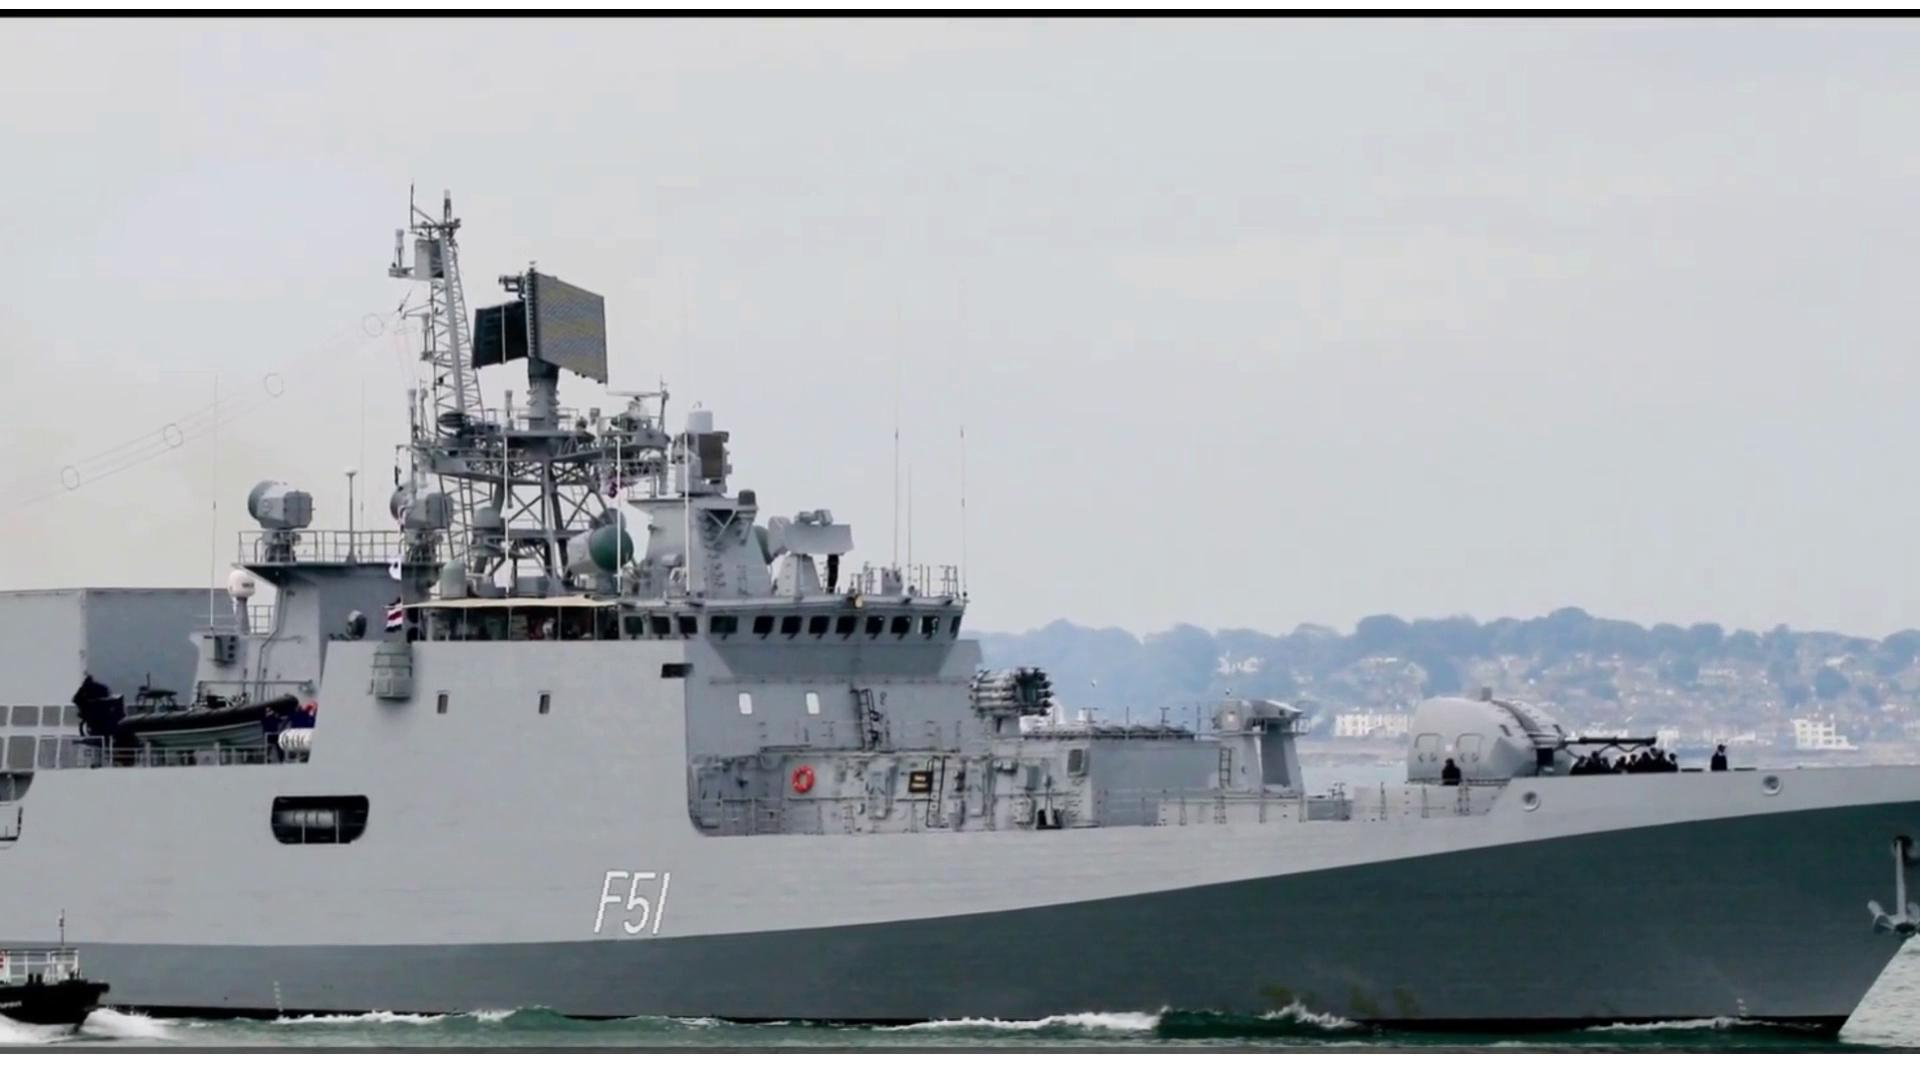OCR: (593, 859, 695, 948)
